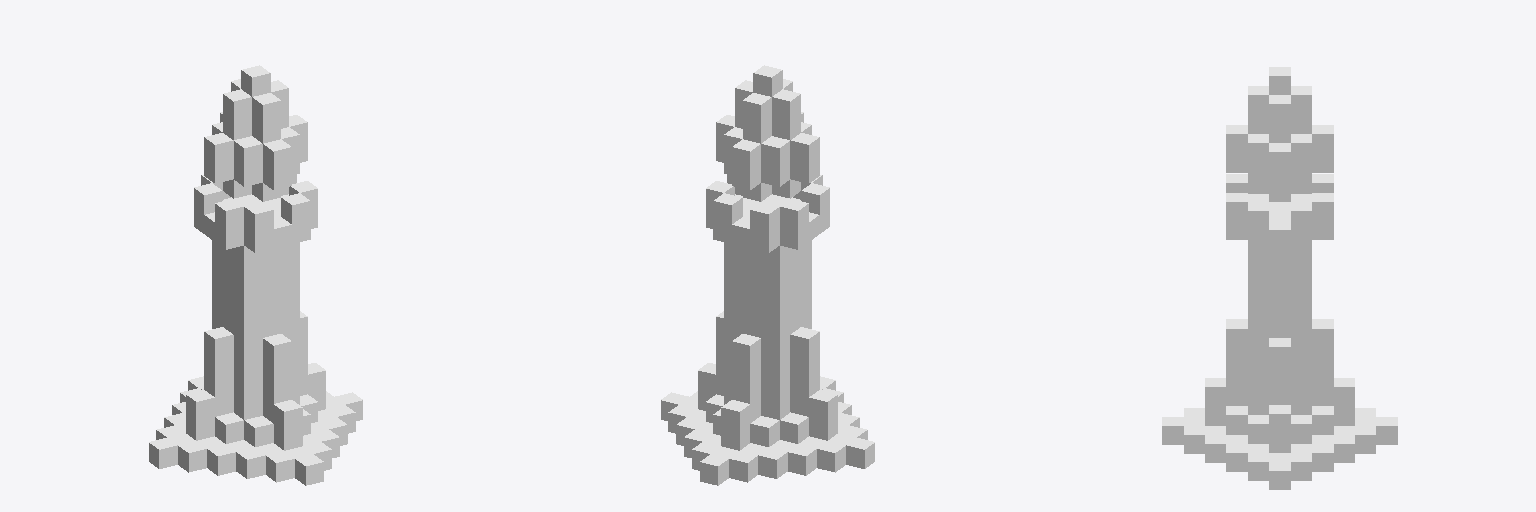
The model's file is bozek.obj.
The picture shows the model from 3 angles: view 1: azimuth 30°, elevation 25°; view 2: azimuth 150°, elevation 25°; view 3: azimuth 270°, elevation 25°; orthographic projection.
Visible parts, largest first — view 1: object 1; view 2: object 1; view 3: object 1.
Part boxes in pixels (x1,y1,x2,y2): object 1: (149, 65, 362, 485); object 1: (661, 65, 874, 485); object 1: (1162, 67, 1397, 489).
Size of the model in its own units: 1.1 by 1.9 by 1.1.